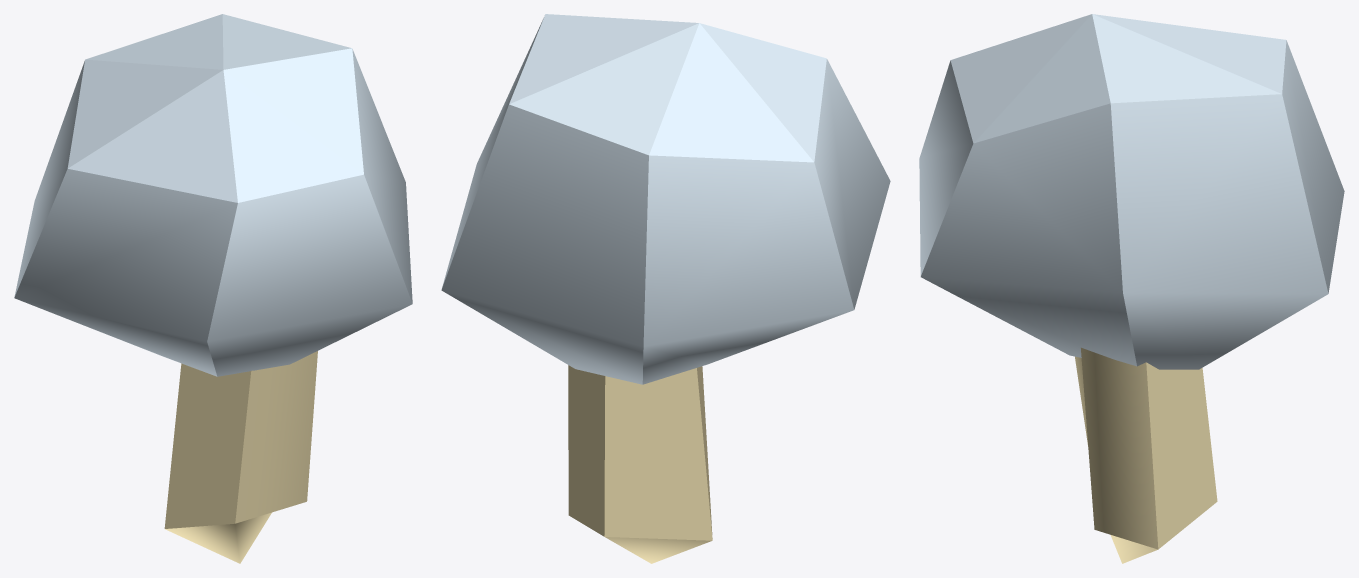
The model's file is Mushroom_3.fbx.
The picture shows the model from 3 angles, left to right: view 1: azimuth 30°, elevation 25°; view 2: azimuth 150°, elevation 25°; view 3: azimuth 270°, elevation 25°; orthographic projection. The views are drawn at different scales.
Parts seen in each view (by area): view 1: Muscroom_3; view 2: Muscroom_3; view 3: Muscroom_3.
Boxes of the visible parts, left/top/right/bottom form: Muscroom_3: left=14, top=14, right=412, bottom=563; Muscroom_3: left=441, top=14, right=890, bottom=563; Muscroom_3: left=919, top=14, right=1344, bottom=563.
Size of the model in its own units: 0.0249 by 0.0324 by 0.0234.
